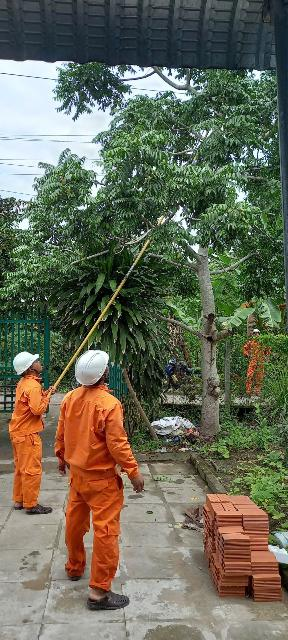helmet: (75, 347, 111, 391), (11, 346, 42, 380), (251, 327, 261, 335)
shoes: (80, 589, 135, 611), (24, 501, 54, 517)
